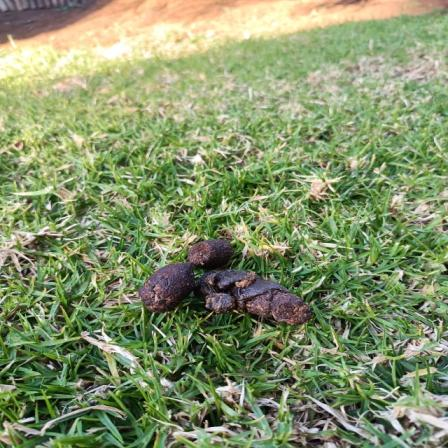dog-poop: (145, 228, 312, 331)
